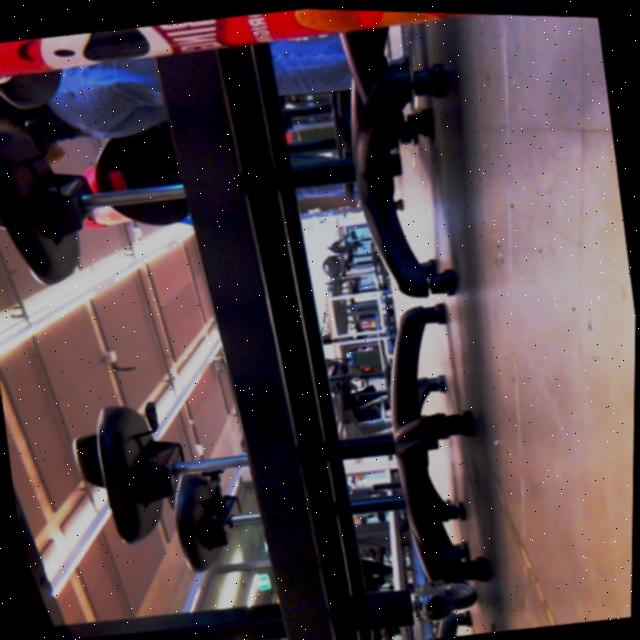redpringles: (0, 0, 602, 134)
